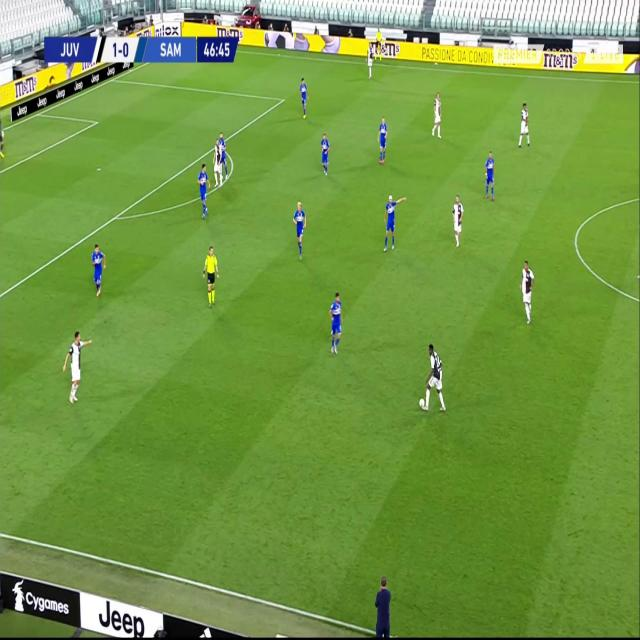ball: (419, 397, 425, 408)
player: (63, 327, 90, 404), (420, 340, 447, 414), (371, 570, 395, 638), (382, 192, 402, 252), (519, 258, 535, 323), (202, 245, 219, 306), (327, 290, 343, 354), (89, 241, 106, 296), (292, 198, 306, 259), (197, 161, 210, 218), (451, 192, 464, 248), (517, 100, 531, 148), (212, 135, 225, 186), (484, 148, 496, 200), (432, 90, 444, 138), (217, 132, 228, 183), (377, 114, 388, 164), (319, 131, 330, 176), (299, 75, 309, 118), (374, 26, 384, 61), (366, 39, 374, 78), (0, 117, 6, 161)
